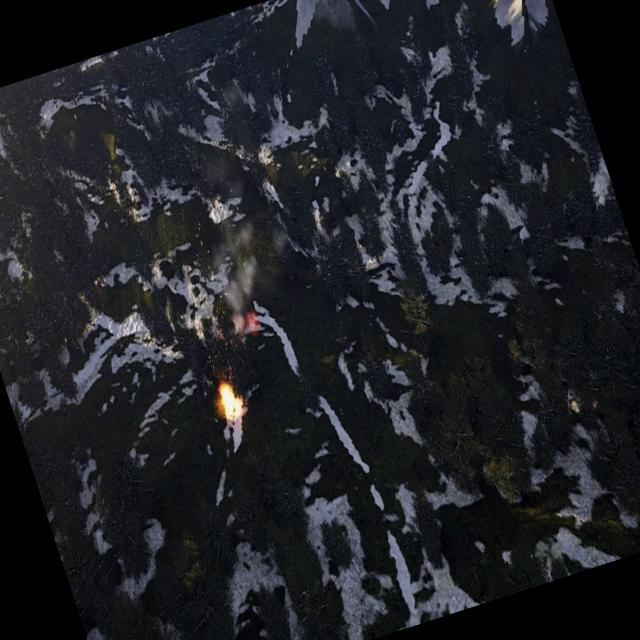fire: (215, 380, 247, 424)
smoke: (195, 220, 284, 340)
